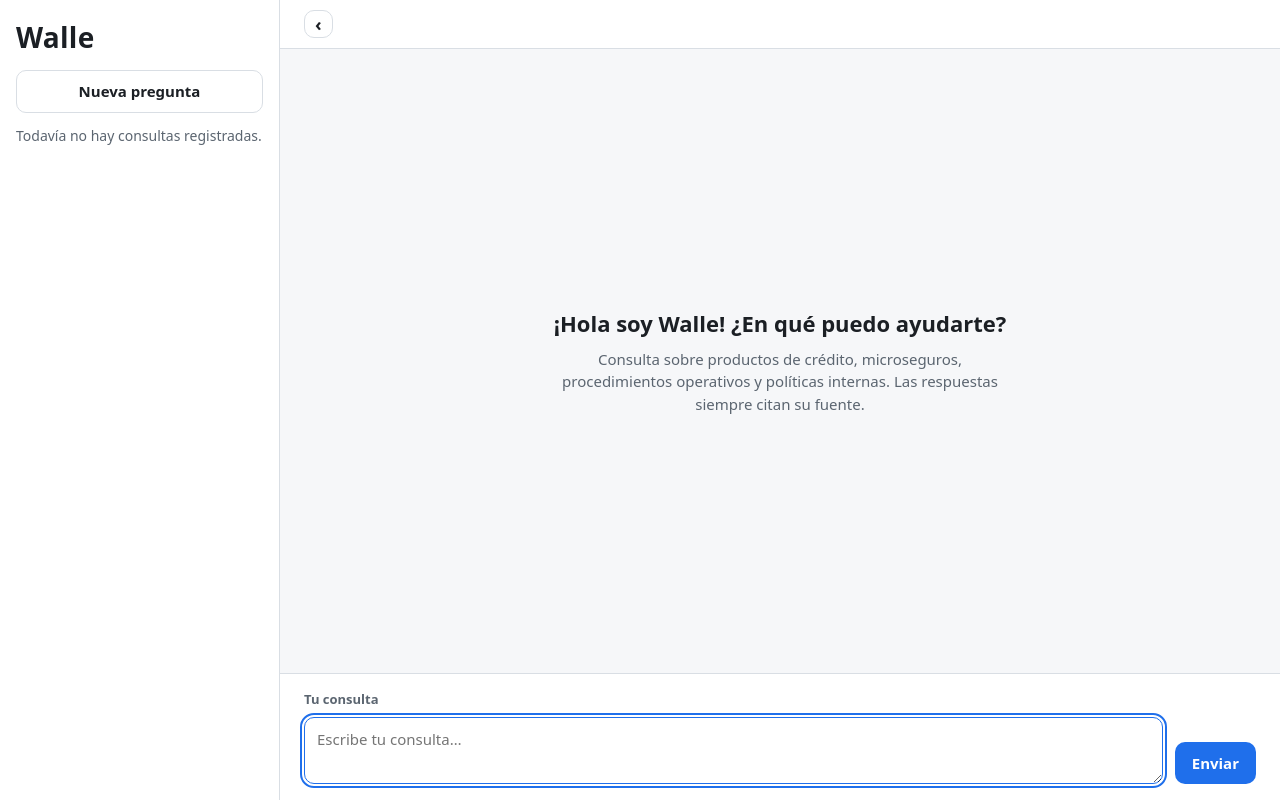
Test: Accesibilidad de la interfaz › los estados se distinguen por texto, no solo por color
The image size is (1280, 800).
Type "consulta" into the text box labelled "Tu consulta" at (733, 750), box [304,717,1163,784]
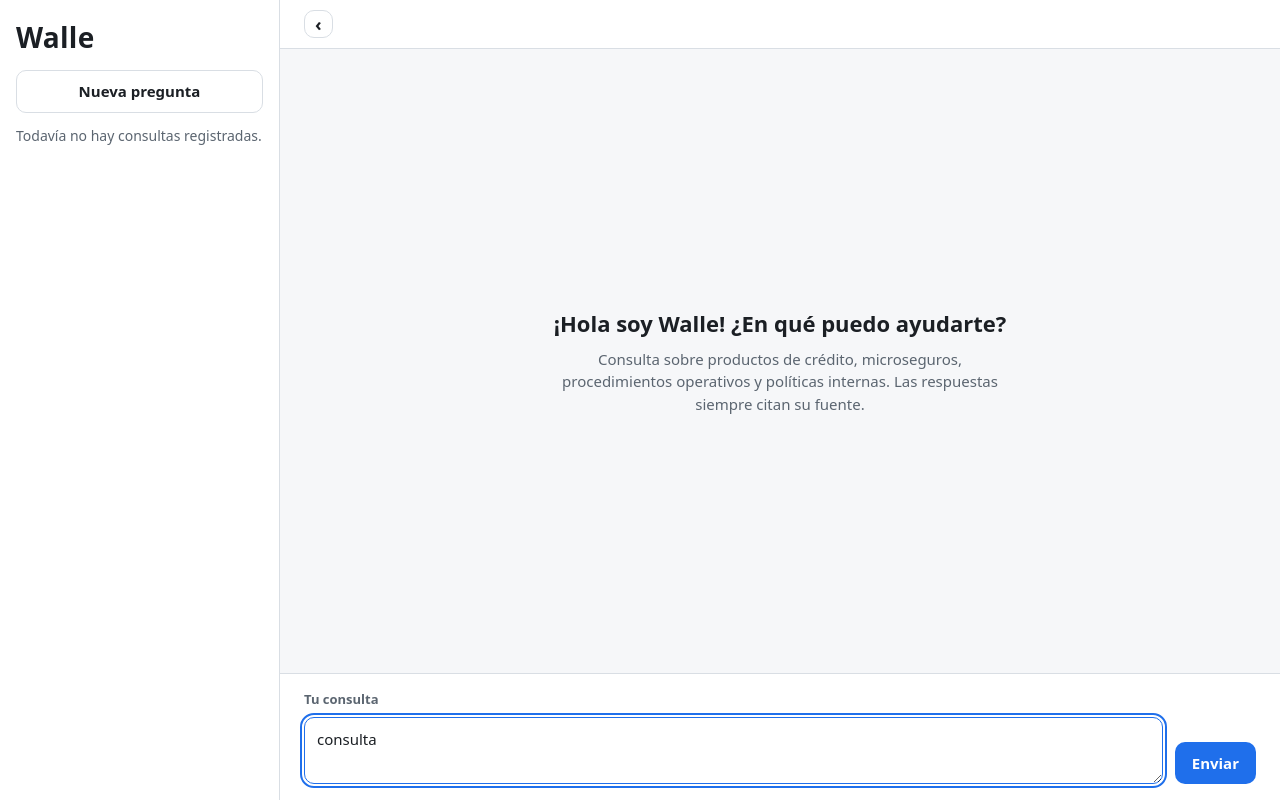
Click the button "Enviar" at (1215, 763), box [1175,742,1256,784]
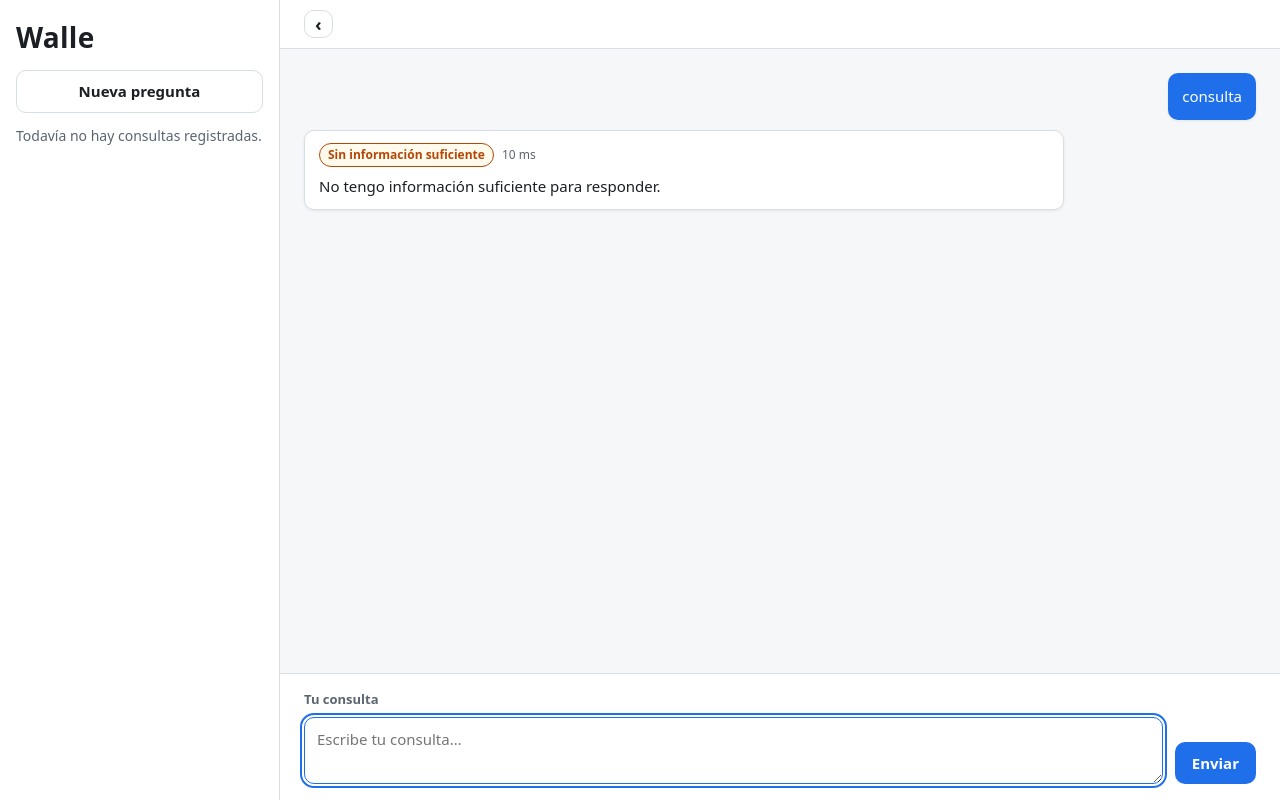
Now the text "Sin información suficiente" is shown, box [319,142,494,166]
